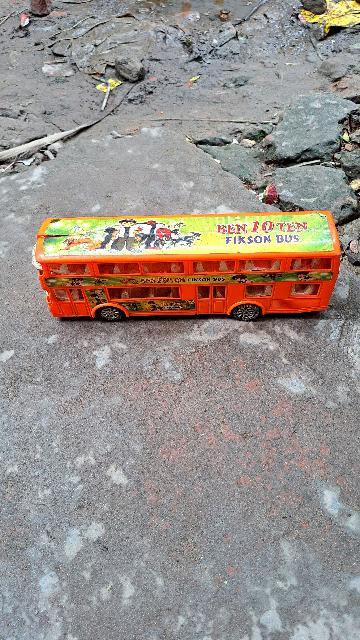hardplastic: (32, 202, 338, 330)
